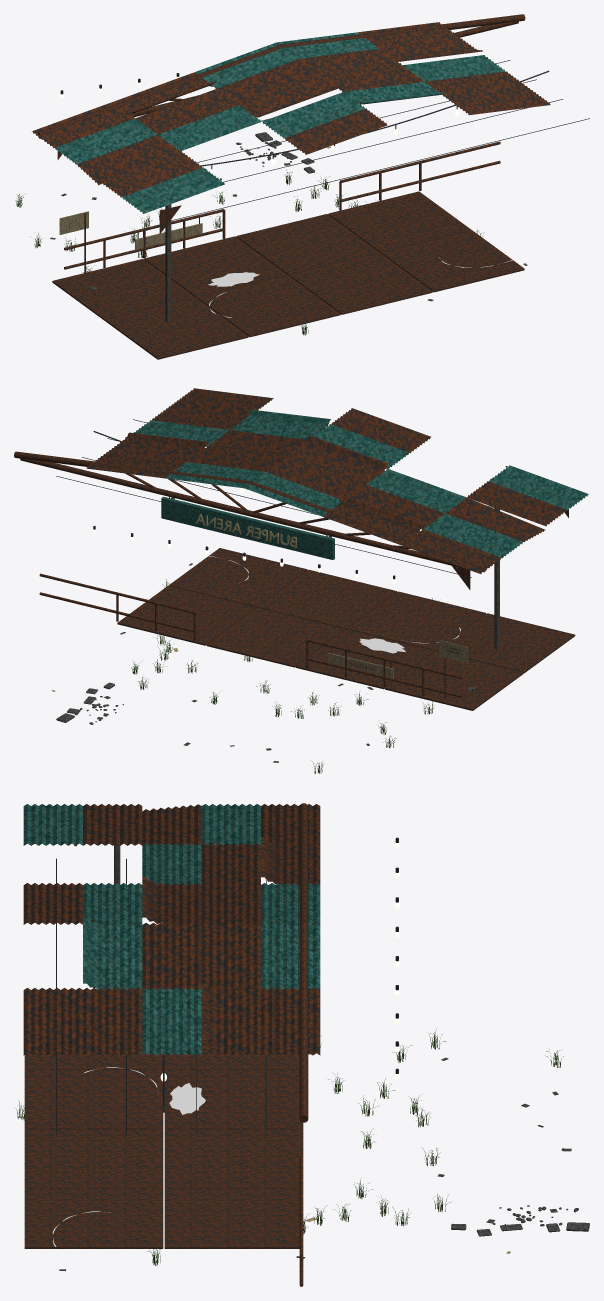
File: SM_Env_Tile_m2_p0.fbx
3 renders of one model, top to bottom at view 1: azimuth 30°, elevation 25°; view 2: azimuth 150°, elevation 25°; view 3: azimuth 270°, elevation 25°, orthographic. The views are drawn at different scales.
Visible parts, largest first — view 1: SM_Env_Tile_m2_p0; view 2: SM_Env_Tile_m2_p0; view 3: SM_Env_Tile_m2_p0.
Part boxes in pixels (x1=…): SM_Env_Tile_m2_p0: x1=15, y1=14, x2=589, y2=359; SM_Env_Tile_m2_p0: x1=14, y1=388, x2=588, y2=773; SM_Env_Tile_m2_p0: x1=15, y1=803, x2=589, y2=1286.
Size of what is drawn, in the model's own units: 1588 by 1234 by 608.
Materials: 13 (9 with a texture image).
